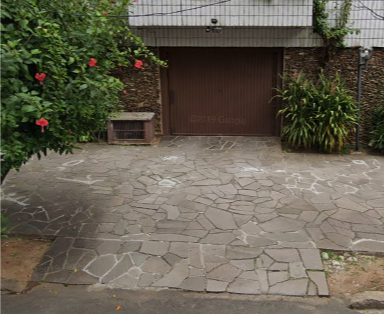vag31: (46, 223, 328, 311)
